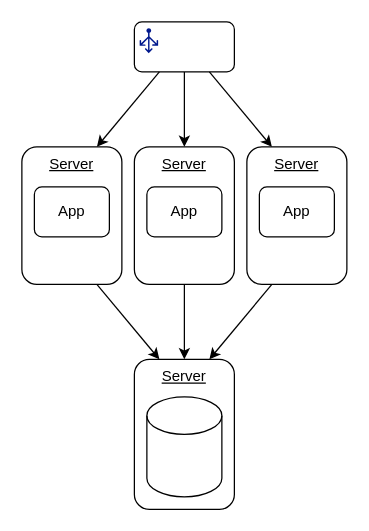
This 369x531 diagram has some shape labels left out. Here are the shapes that lost their labels. From the top down, the box of each, then its label:
(133, 21, 234, 72): Load Balancer
(146, 396, 222, 497): Database
